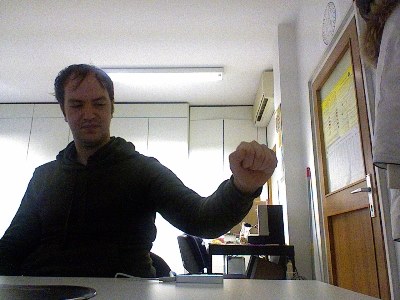石头: (228, 140, 278, 190)
